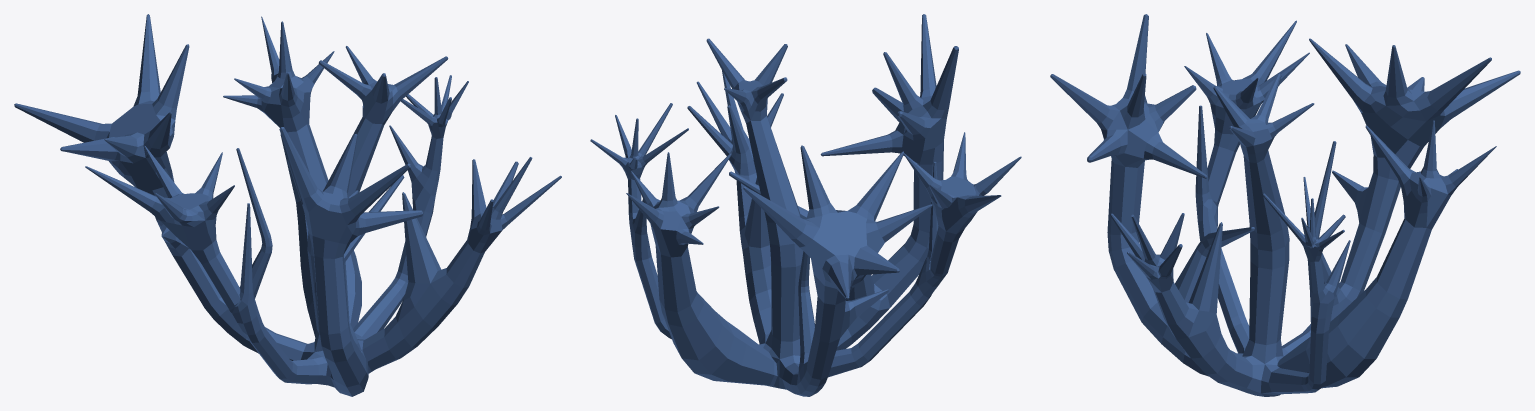
Rendered from tree-winter-leaves-030.glb.
3 renders of one model, left to right at view 1: azimuth 30°, elevation 25°; view 2: azimuth 150°, elevation 25°; view 3: azimuth 270°, elevation 25°, orthographic.
Visible parts, largest first — view 1: Plane.064_166; view 2: Plane.064_166; view 3: Plane.064_166.
Boxes of the visible parts, left/top/right/bottom form: Plane.064_166: left=14, top=14, right=561, bottom=396; Plane.064_166: left=590, top=14, right=1021, bottom=396; Plane.064_166: left=1050, top=14, right=1520, bottom=396.
Size of the model in its own units: 1.14 by 0.8953 by 1.19.
